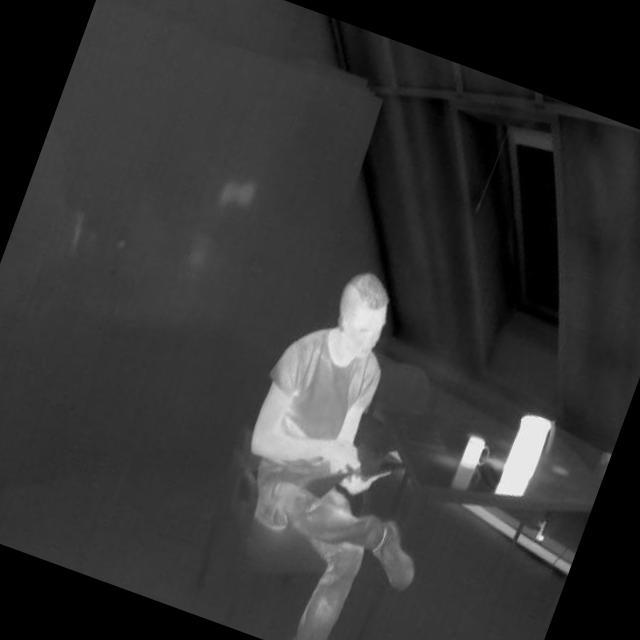person: (183, 246, 512, 640)
